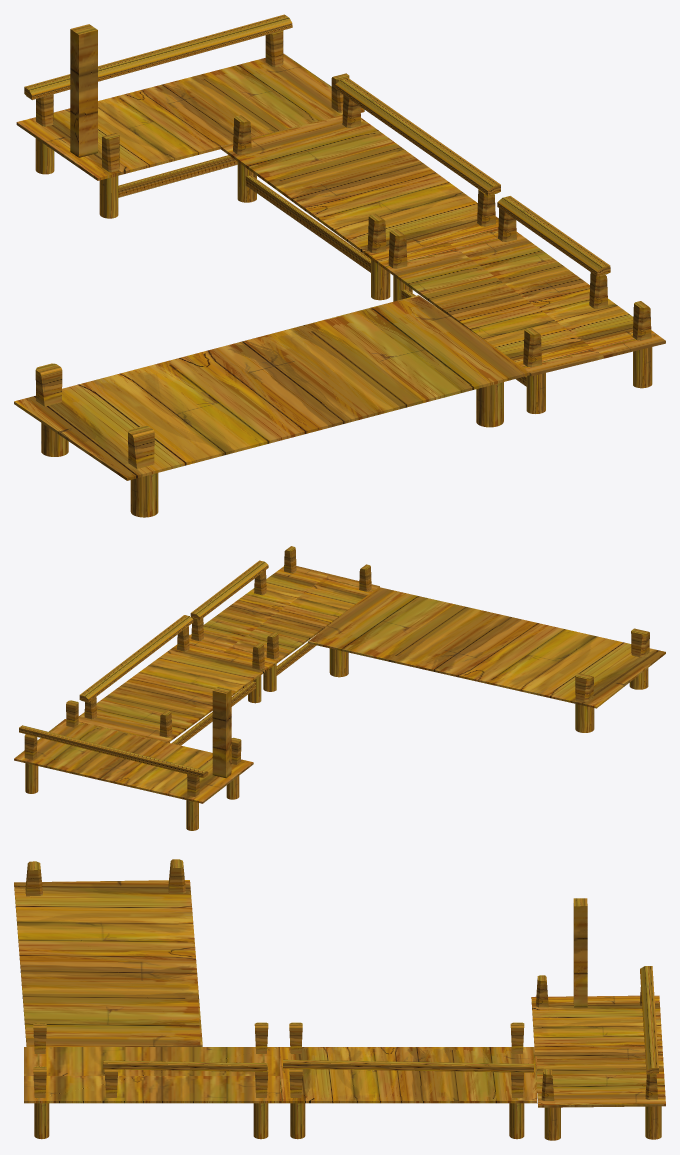
The model's file is PortoIlha.FBX.
3 views of the same model, one above another, from view 1: azimuth 30°, elevation 25°; view 2: azimuth 150°, elevation 25°; view 3: azimuth 270°, elevation 25° (orthographic). The views are drawn at different scales.
Parts seen in each view (by area): view 1: textura_deck_porto2 (×17); view 2: textura_deck_porto2 (×13); view 3: textura_deck_porto2 (×16).
Boxes of the visible parts, bbox=[...] form: textura_deck_porto2 (×17): bbox=[14, 14, 665, 517]; textura_deck_porto2 (×13): bbox=[14, 560, 665, 803]; textura_deck_porto2 (×16): bbox=[14, 859, 665, 1140].
Bounding box in the file's own units: 55531 × 16167 × 67828.
